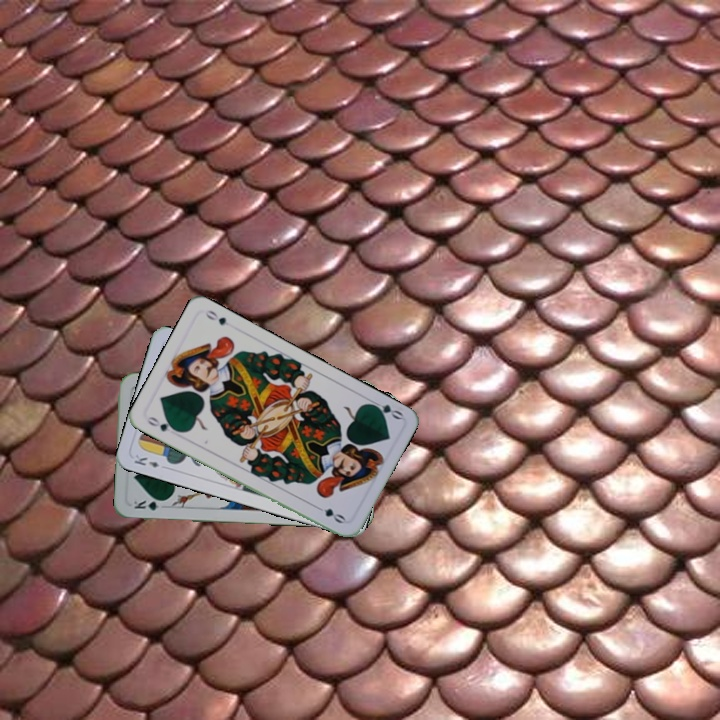EK: (130, 450, 162, 470)
GK: (130, 496, 169, 513)
GO: (365, 396, 405, 422), (143, 413, 181, 435)
